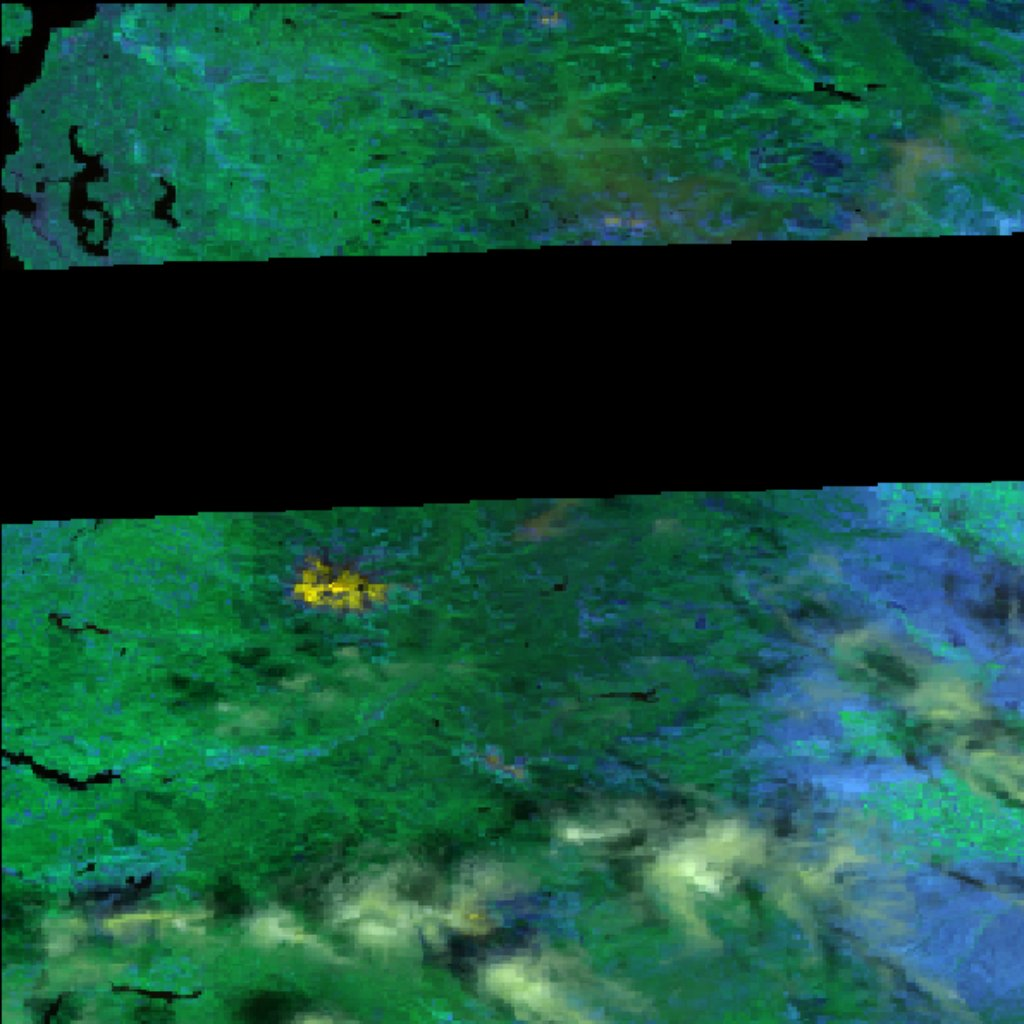fire: (2, 482, 1024, 1024), (2, 0, 1024, 270)
